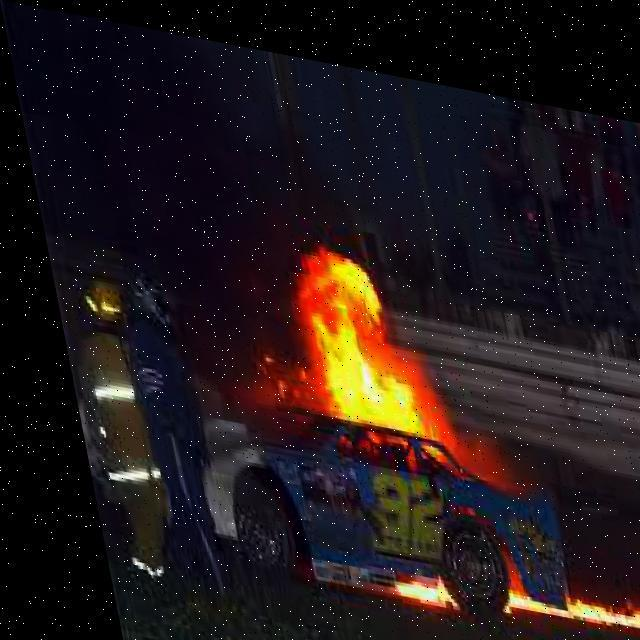Fire: (256, 220, 469, 468)
